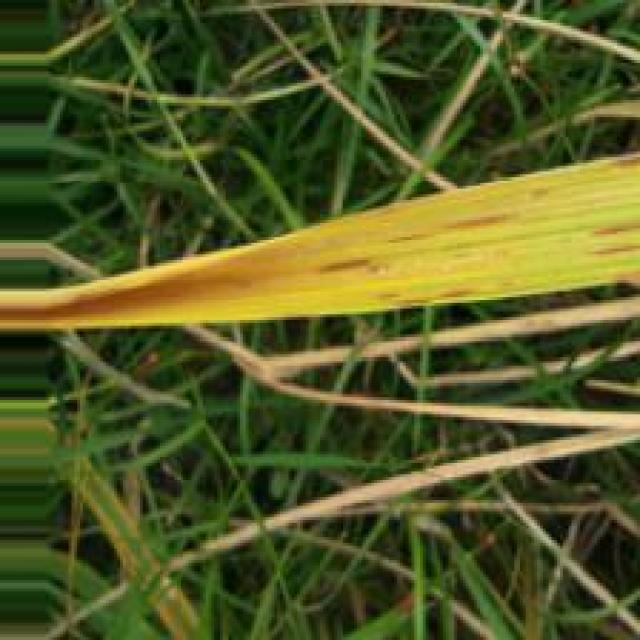Narrow_Brown_Leaf_Spot: (0, 147, 637, 327)
